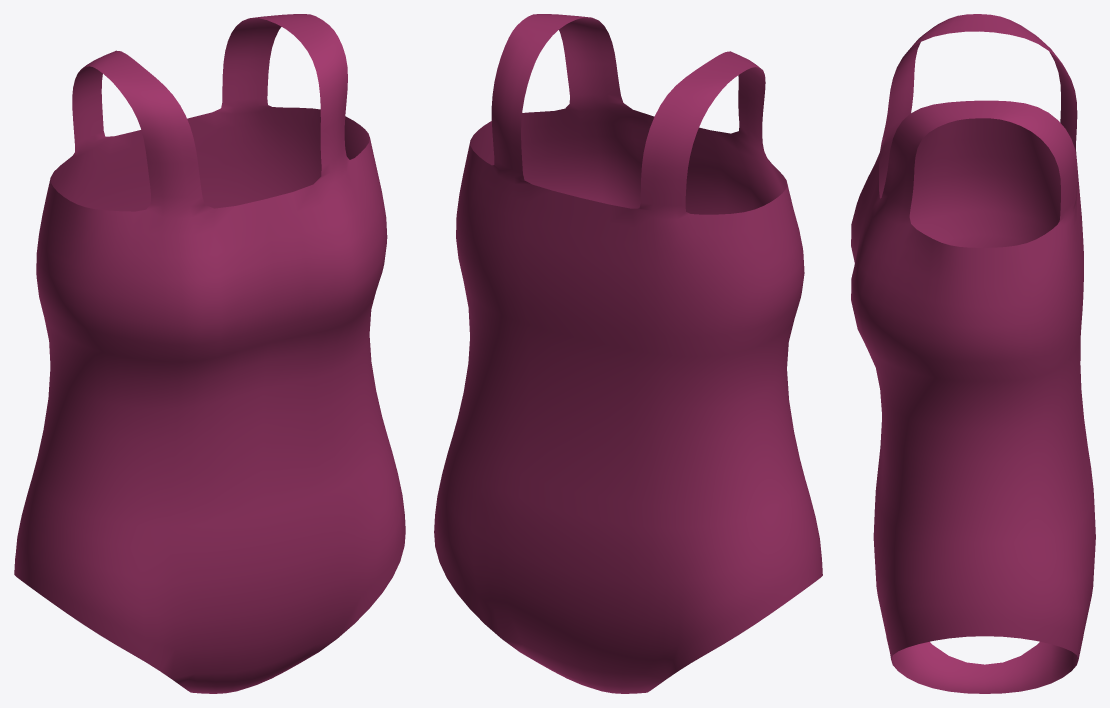
File: One_Piece_Swimsuit.gltf
3 renders of one model, left to right at view 1: azimuth 30°, elevation 25°; view 2: azimuth 150°, elevation 25°; view 3: azimuth 270°, elevation 25°, orthographic. The views are drawn at different scales.
Visible parts, largest first — view 1: One-Piece Swimsuit; view 2: One-Piece Swimsuit; view 3: One-Piece Swimsuit.
Boxes of the visible parts, bbox=[...] form: One-Piece Swimsuit: bbox=[14, 14, 405, 693]; One-Piece Swimsuit: bbox=[434, 14, 822, 693]; One-Piece Swimsuit: bbox=[851, 14, 1095, 693].
Size of the model in its own units: 1.17 by 1.97 by 0.7045.
